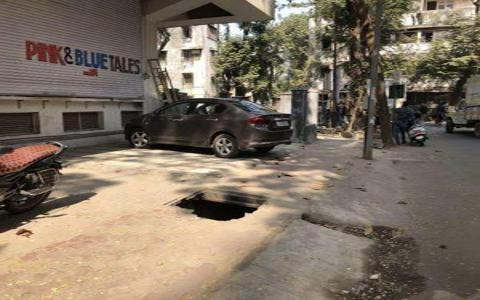open manhole: (173, 186, 275, 229)
